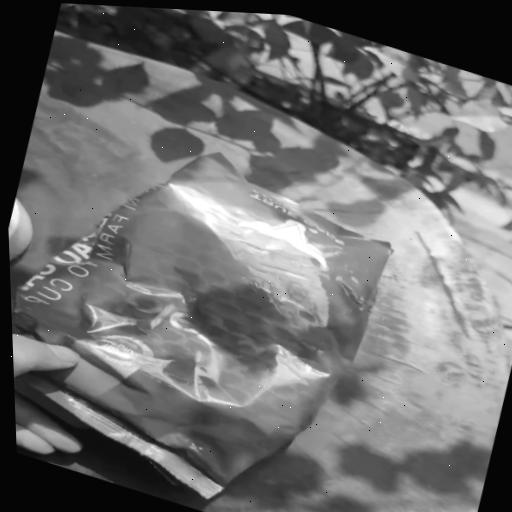cafe_xay: (12, 153, 390, 498)
